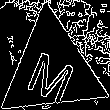M_NE: (23, 37, 81, 102)
